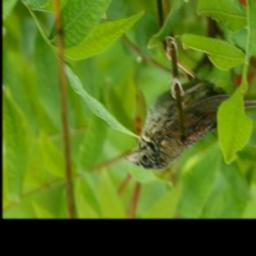Sparrow: (125, 32, 256, 172)
